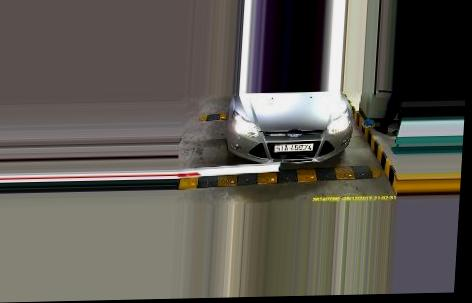License_Plate: (275, 139, 313, 153)
